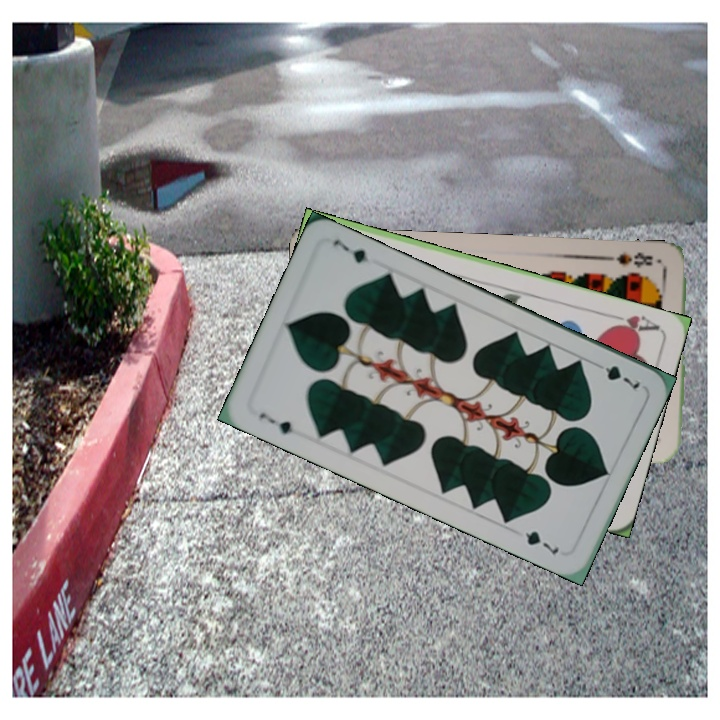G7: (589, 358, 643, 392), (255, 408, 295, 437)
HA: (603, 309, 662, 338)
S8: (604, 247, 655, 271)
